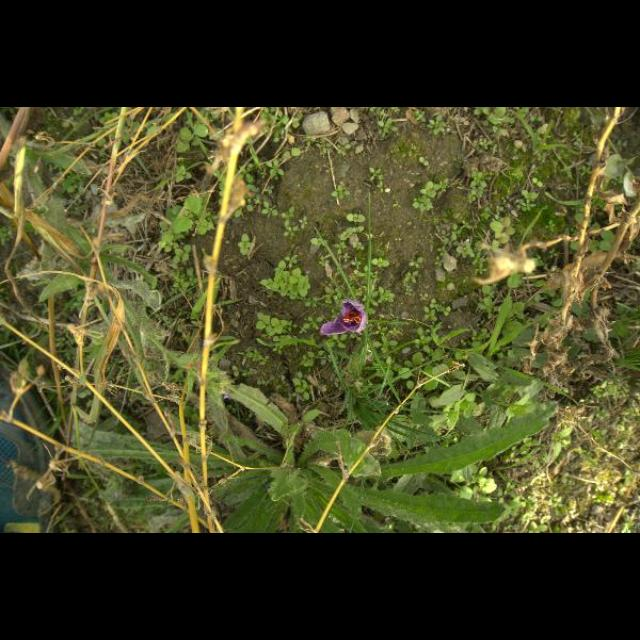flower: (320, 300, 368, 336)
